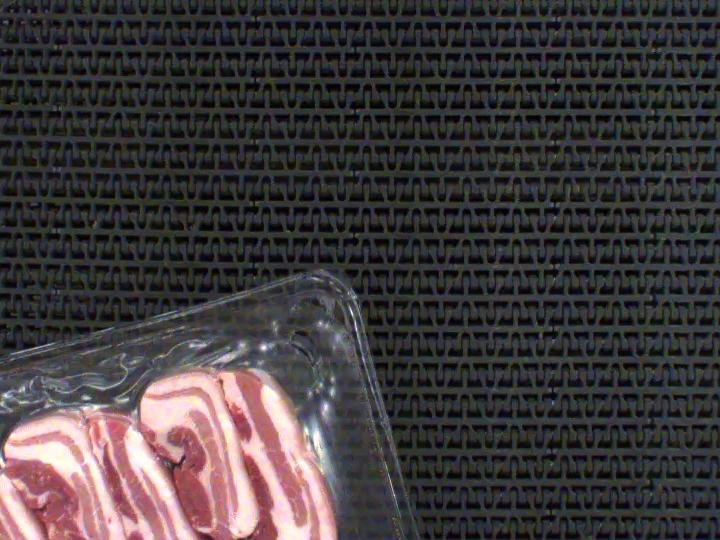unsealed: (0, 302, 410, 540)
